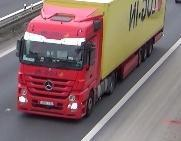Truck: (15, 0, 166, 120)
